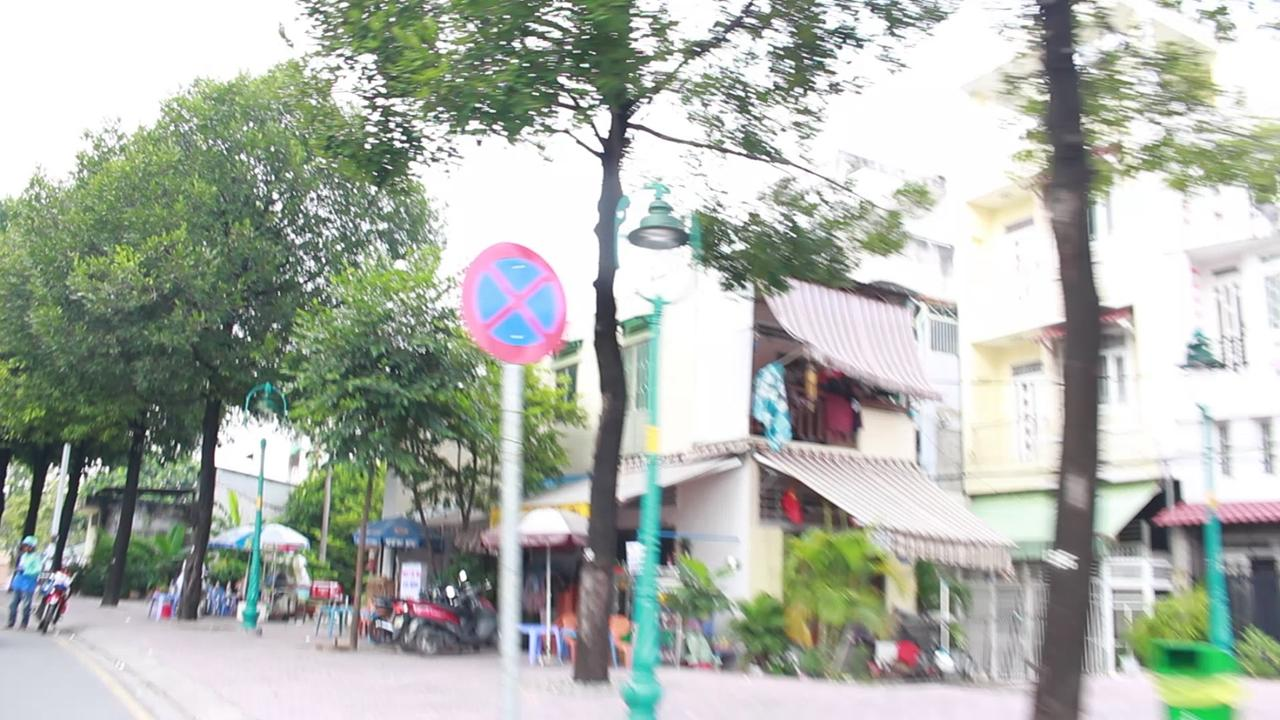P.103a: (455, 236, 576, 368)
